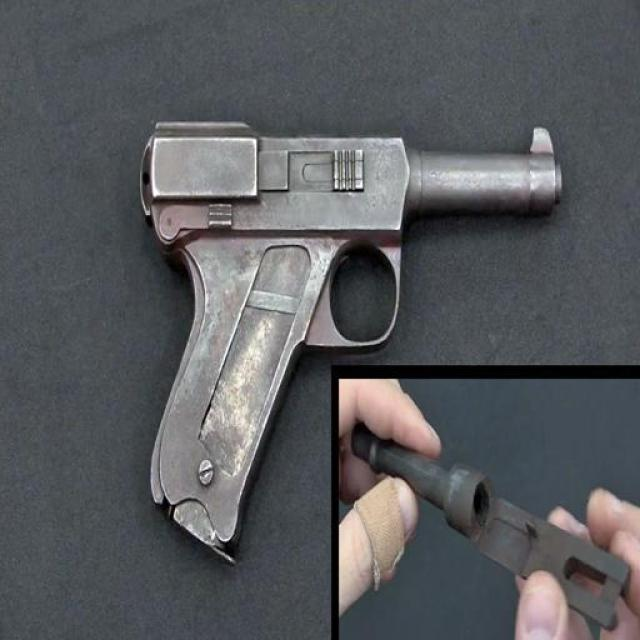pistol: (136, 109, 567, 570)
